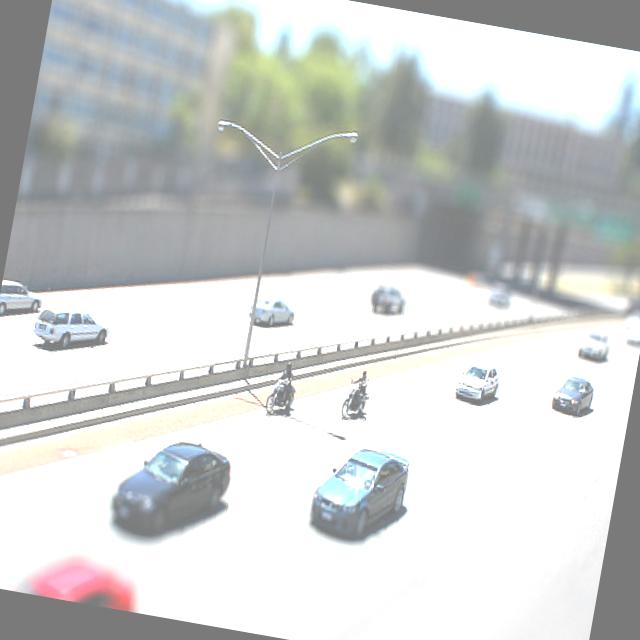Vehicle: (106, 424, 236, 548), (306, 441, 412, 550), (0, 536, 145, 613), (29, 298, 114, 360), (452, 355, 503, 409), (246, 291, 298, 332), (550, 373, 594, 418), (0, 277, 45, 321), (262, 372, 298, 420), (340, 384, 372, 424), (577, 328, 613, 362), (368, 284, 404, 318), (486, 292, 511, 310), (625, 325, 640, 346)
